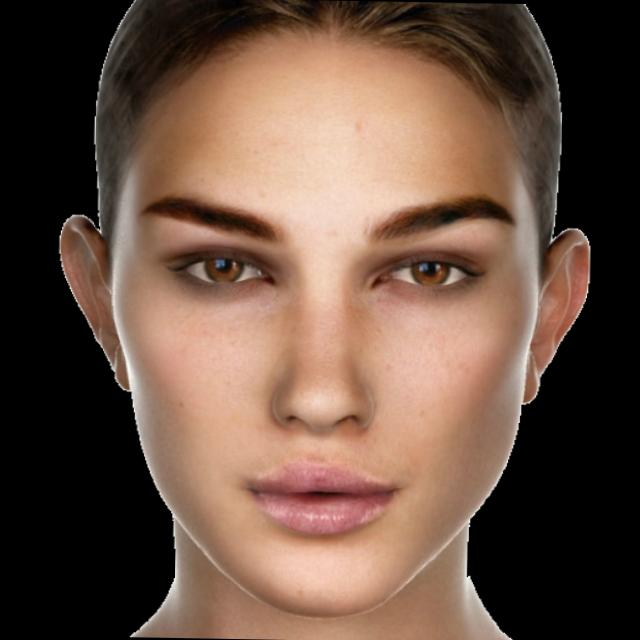face: (27, 0, 607, 629)
